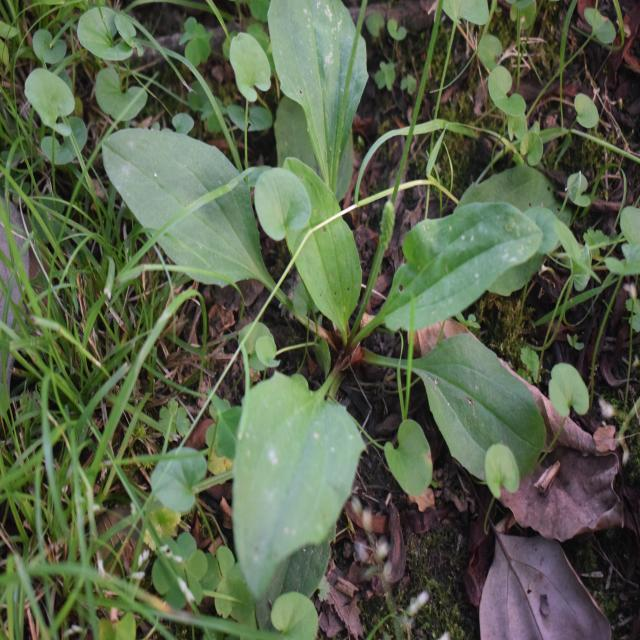plantain: (144, 73, 530, 535)
